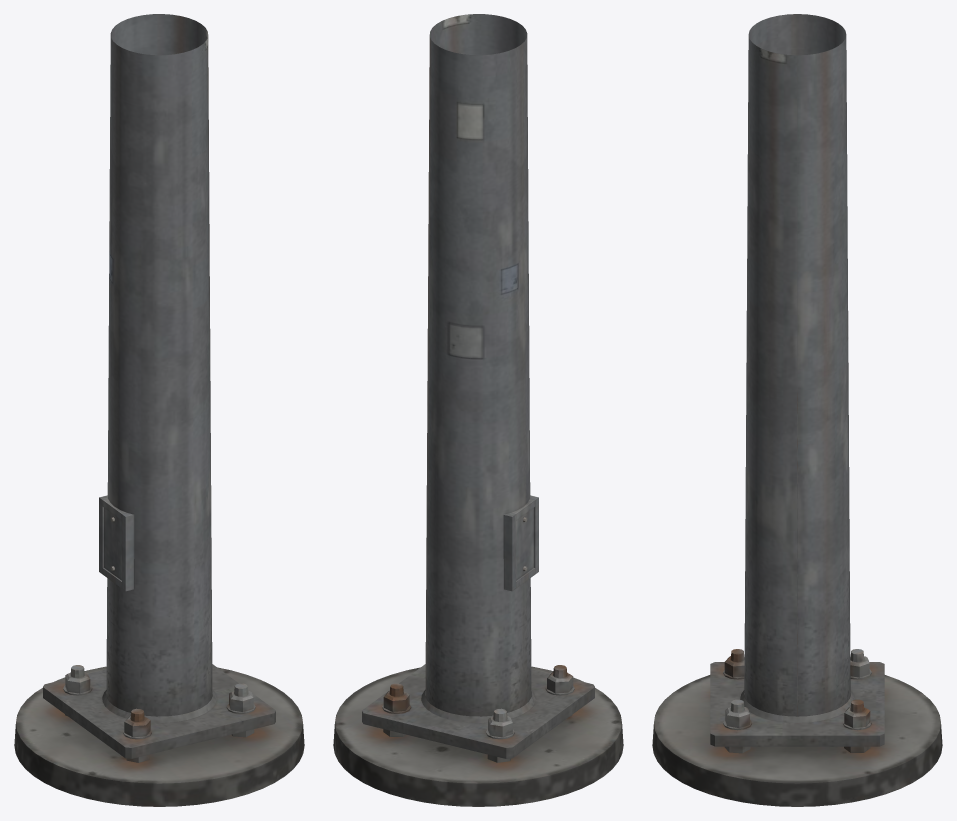
The model's file is mastFoot-v1-galvanised.glb.
3 views of the same model, side by side, from view 1: azimuth 30°, elevation 25°; view 2: azimuth 150°, elevation 25°; view 3: azimuth 270°, elevation 25° (orthographic).
Visible parts, largest first — view 1: mastFoot-v1-galvanised; view 2: mastFoot-v1-galvanised; view 3: mastFoot-v1-galvanised.
Boxes of the visible parts, x1,y1,x2,y2 form: mastFoot-v1-galvanised: [14, 14, 304, 806]; mastFoot-v1-galvanised: [333, 14, 623, 806]; mastFoot-v1-galvanised: [652, 14, 942, 806].
Bounding box in the file's own units: 0.762 × 2.06 × 0.762.
1 material, 1 textured.
